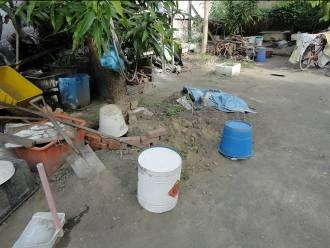box: (16, 115, 88, 179)
bucket: (136, 144, 183, 213), (218, 118, 255, 161), (54, 73, 93, 111), (95, 103, 130, 142)
plastic_bag: (182, 85, 256, 115)
